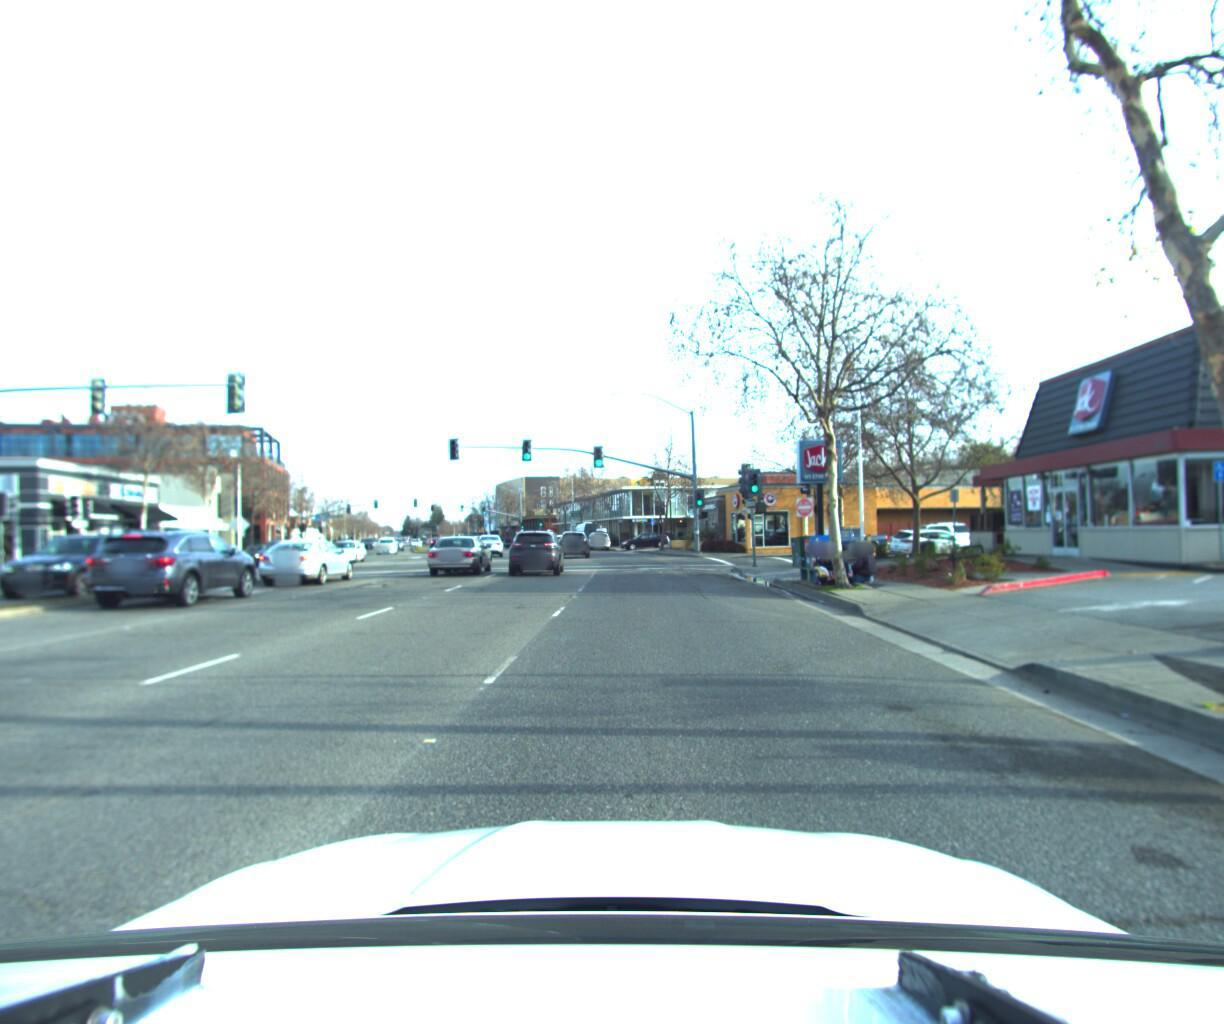car: (79, 527, 266, 612), (255, 532, 360, 586), (878, 516, 976, 553), (424, 531, 497, 577), (501, 526, 565, 575), (796, 519, 888, 550), (317, 535, 370, 566), (616, 523, 676, 544), (555, 524, 589, 557), (474, 530, 504, 555), (584, 525, 612, 545), (373, 533, 397, 553)
